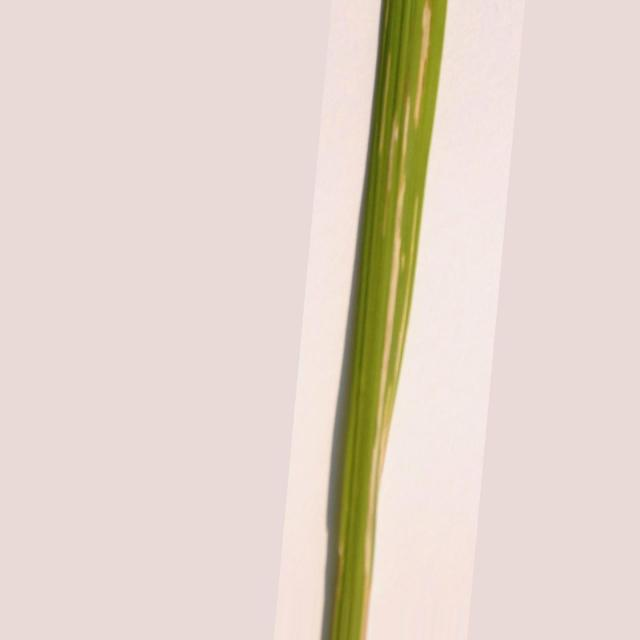Bacterial_Leaf_Blight: (356, 125, 416, 640), (414, 0, 431, 129), (430, 100, 434, 131)
